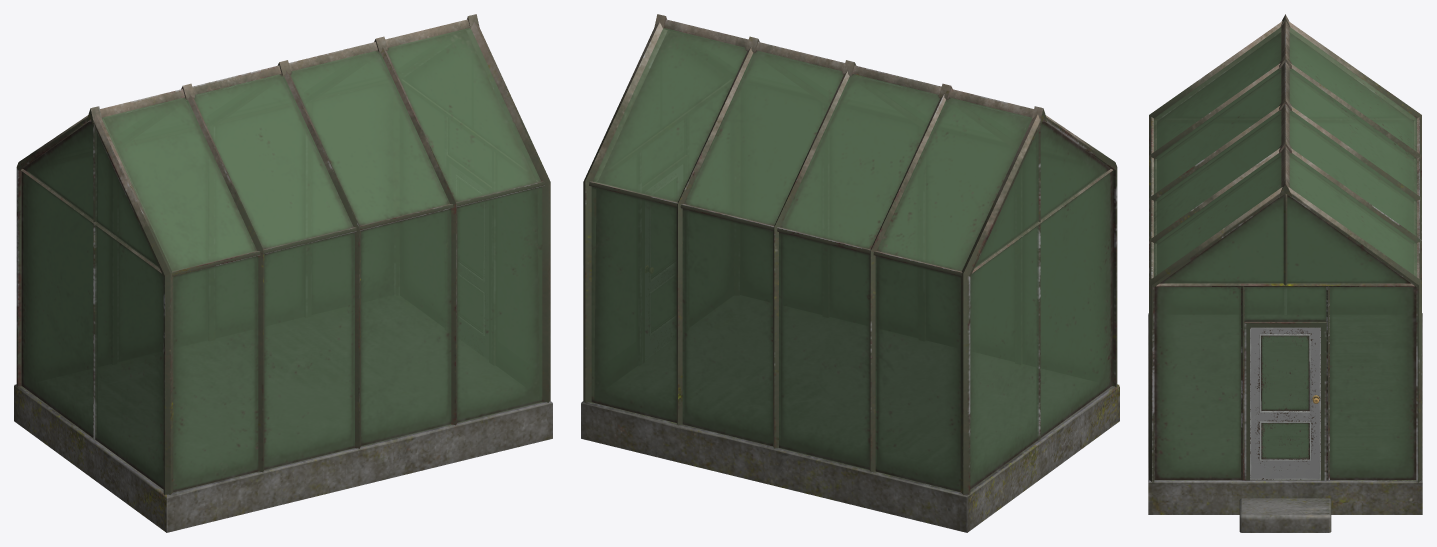
The model's file is greenhouse_free.glb.
3 views of the same model, side by side, from view 1: azimuth 30°, elevation 25°; view 2: azimuth 150°, elevation 25°; view 3: azimuth 270°, elevation 25° (orthographic). The views are drawn at different scales.
Visible parts, largest first — view 1: Cube.001; view 2: Cube.001; view 3: Cube.001.
Boxes of the visible parts, <box> form: Cube.001: <box>14,14,552,532</box>; Cube.001: <box>581,14,1119,532</box>; Cube.001: <box>1148,14,1422,532</box>.
Bounding box in the file's own units: 573 × 473 × 354.
3 materials, 3 textured.
